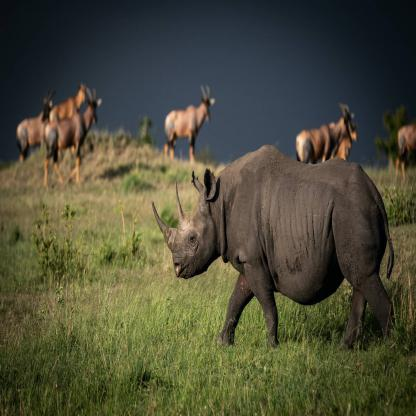Diceros bicornis: (150, 142, 396, 351)
